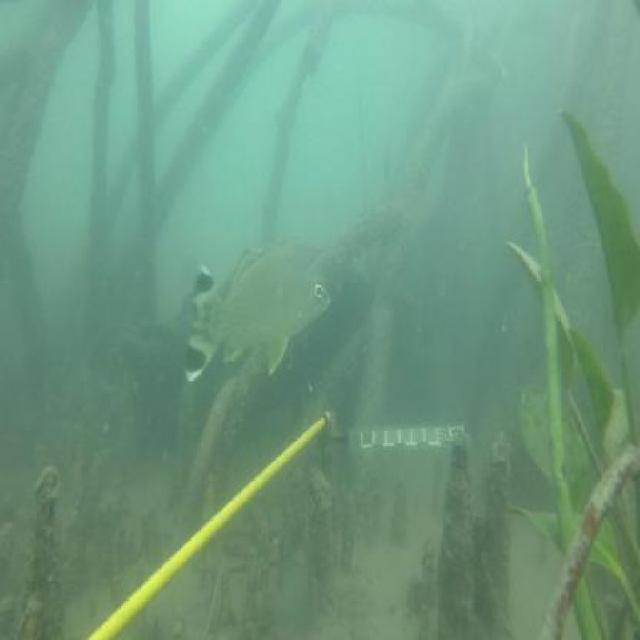Amniataba_caudivittatus: (184, 232, 334, 386)
